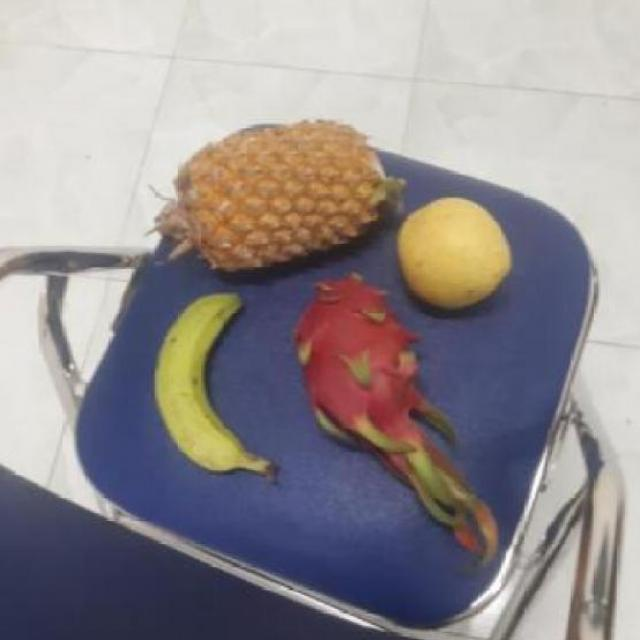banana: (151, 286, 267, 474)
dragon fruit: (296, 275, 434, 440)
pear: (392, 195, 518, 311)
pineapple: (160, 114, 402, 280)
